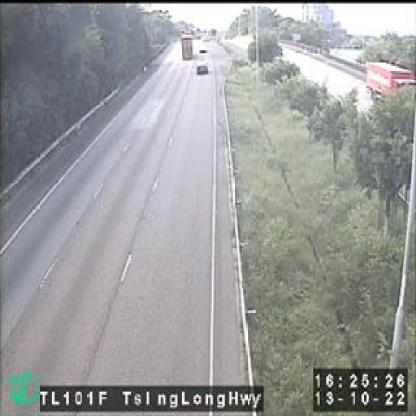Car: (196, 60, 208, 75)
